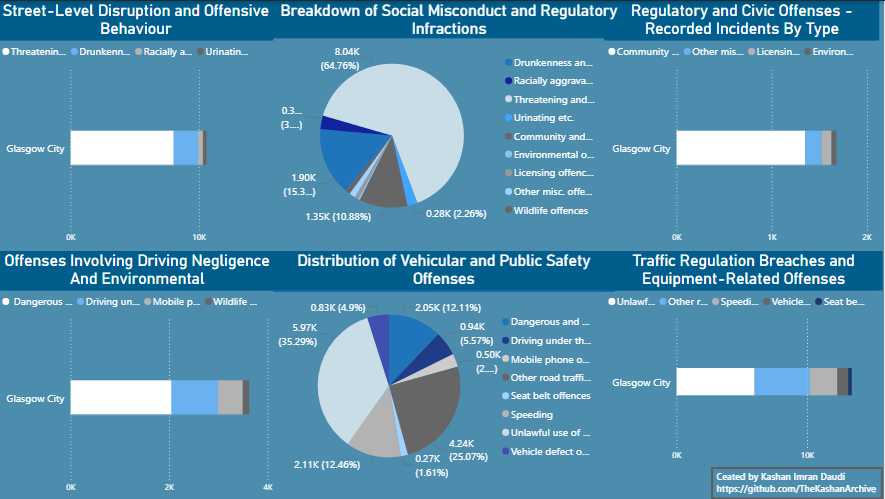

The dashboard page shown, as its layout file describes it:
{"tool":"powerbi","page":{"name":"Page 3","canvas":[1280,720],"ordinal":2},"visuals":[{"type":"barChart","title":"Street-Level Disruption and Offensive Behaviour","fields":{"Category":["Scotland Crime Report 2022-23, Cities Breakdown.Reference Area"],"Y":["Sum(Scotland Crime Report 2022-23, Cities Breakdown.Offences: Group 6: Threatening and abusive behaviour)","Sum(Scotland Crime Report 2022-23, Cities Breakdown.Offences: Group 6: Drunkenness and other disorderly conduct)","Sum(Scotland Crime Report 2022-23, Cities Breakdown.Offences: Group 6: Racially aggravated conduct)","Sum(Scotland Crime Report 2022-23, Cities Breakdown.Offences: Group 6: Urinating etc.)"]},"box":[0,0,398.1,359.5],"z":0},{"type":"barChart","title":"Regulatory and Civic Offenses - Recorded Incidents By Type ","fields":{"Category":["Scotland Crime Report 2022-23, Cities Breakdown.Reference Area"],"Y":["Sum(Scotland Crime Report 2022-23, Cities Breakdown.Offences: Group 7: Community and public order offences)","Sum(Scotland Crime Report 2022-23, Cities Breakdown.Offences: Group 7: Other misc. offences)","Sum(Scotland Crime Report 2022-23, Cities Breakdown.Offences: Group 7: Licensing offences)","Sum(Scotland Crime Report 2022-23, Cities Breakdown.Offences: Group 7: Environmental offences)"]},"box":[876.9,0,398.1,359.5],"z":1000},{"type":"barChart","title":"Offenses Involving Driving Negligence And Environmental","fields":{"Category":["Scotland Crime Report 2022-23, Cities Breakdown.Reference Area"],"Y":["Sum(Scotland Crime Report 2022-23, Cities Breakdown.Offences: Group 8: Dangerous and careless driving)","Sum(Scotland Crime Report 2022-23, Cities Breakdown.Offences: Group 8: Driving under the influence)","Sum(Scotland Crime Report 2022-23, Cities Breakdown.Offences: Group 8: Mobile phone offences)","Sum(Scotland Crime Report 2022-23, Cities Breakdown.Offences: Group 7: Wildlife offences)"]},"box":[0,361.4,401.9,358.6],"z":2000},{"type":"barChart","title":"Traffic Regulation Breaches and Equipment-Related Offenses","fields":{"Category":["Scotland Crime Report 2022-23, Cities Breakdown.Reference Area"],"Y":["Sum(Scotland Crime Report 2022-23, Cities Breakdown.Offences: Group 8: Unlawful use of vehicle)","Sum(Scotland Crime Report 2022-23, Cities Breakdown.Offences: Group 8: Other road traffic offences)","Sum(Scotland Crime Report 2022-23, Cities Breakdown.Offences: Group 8: Speeding)","Sum(Scotland Crime Report 2022-23, Cities Breakdown.Offences: Group 8: Vehicle defect offences)","Sum(Scotland Crime Report 2022-23, Cities Breakdown.Offences: Group 8: Seat belt offences)"]},"box":[876.9,361.2,403.1,312.4],"z":3000},{"type":"pieChart","fields":{"Y":["Sum(Scotland Crime Report 2022-23, Cities Breakdown.Offences: Group 6: Drunkenness and other disorderly conduct)","Sum(Scotland Crime Report 2022-23, Cities Breakdown.Offences: Group 6: Racially aggravated conduct)","Sum(Scotland Crime Report 2022-23, Cities Breakdown.Offences: Group 6: Threatening and abusive behaviour)","Sum(Scotland Crime Report 2022-23, Cities Breakdown.Offences: Group 6: Urinating etc.)","Sum(Scotland Crime Report 2022-23, Cities Breakdown.Offences: Group 7: Community and public order offences)","Sum(Scotland Crime Report 2022-23, Cities Breakdown.Offences: Group 7: Environmental offences)","Sum(Scotland Crime Report 2022-23, Cities Breakdown.Offences: Group 7: Licensing offences)","Sum(Scotland Crime Report 2022-23, Cities Breakdown.Offences: Group 7: Other misc. offences)","Sum(Scotland Crime Report 2022-23, Cities Breakdown.Offences: Group 7: Wildlife offences)"]},"box":[401.5,26.9,475.4,334.3],"z":4000},{"type":"pieChart","fields":{"Y":["Sum(Scotland Crime Report 2022-23, Cities Breakdown.Offences: Group 8: Dangerous and careless driving)","Sum(Scotland Crime Report 2022-23, Cities Breakdown.Offences: Group 8: Driving under the influence)","Sum(Scotland Crime Report 2022-23, Cities Breakdown.Offences: Group 8: Mobile phone offences)","Sum(Scotland Crime Report 2022-23, Cities Breakdown.Offences: Group 8: Other road traffic offences)","Sum(Scotland Crime Report 2022-23, Cities Breakdown.Offences: Group 8: Seat belt offences)","Sum(Scotland Crime Report 2022-23, Cities Breakdown.Offences: Group 8: Speeding)","Sum(Scotland Crime Report 2022-23, Cities Breakdown.Offences: Group 8: Unlawful use of vehicle)","Sum(Scotland Crime Report 2022-23, Cities Breakdown.Offences: Group 8: Vehicle defect offences)"]},"box":[398.1,391.4,475.4,329.2],"z":5000},{"type":"shape","title":"Breakdown of Social Misconduct and Regulatory Infractions","box":[398.1,0,509,53.8],"z":6000},{"type":"shape","title":"Distribution of Vehicular and Public Safety Offenses","box":[398.1,361.2,493.9,58.8],"z":7000},{"type":"textbox","box":[1033.1,673.6,246.9,47],"z":8000},{"type":"actionButton","box":[1030.8,673.7,248.7,46.3],"z":9000},{"type":"slicer","fields":{"Values":["Scotland Crime Report 2022-23, Cities Breakdown.Reference Area"]},"box":[0,707,13,13],"z":10000}]}

Visuals, with their boxes in screenshot pixels (x1, y1, x2, y2), scaled from the page's 1280x720 canvas onto the 885x499 screenshot:
"Street-Level Disruption and Offensive Behaviour" barChart: (0,0,275,249)
"Regulatory and Civic Offenses - Recorded Incidents By Type " barChart: (606,0,882,249)
"Offenses Involving Driving Negligence And Environmental" barChart: (0,250,278,498)
"Traffic Regulation Breaches and Equipment-Related Offenses" barChart: (606,250,884,467)
pieChart - Sum(Scotland Crime Report 2022-23, Cities Breakdown.Offences: Group 6: Drunkenness and other disorderly conduct) x Sum(Scotland Crime Report 2022-23, Cities Breakdown.Offences: Group 6: Racially aggravated conduct): (278,19,606,250)
pieChart - Sum(Scotland Crime Report 2022-23, Cities Breakdown.Offences: Group 8: Dangerous and careless driving) x Sum(Scotland Crime Report 2022-23, Cities Breakdown.Offences: Group 8: Driving under the influence): (275,271,604,498)
"Breakdown of Social Misconduct and Regulatory Infractions" shape: (275,0,627,37)
"Distribution of Vehicular and Public Safety Offenses" shape: (275,250,617,291)
textbox: (714,467,884,498)
actionButton: (713,467,884,498)
slicer - Scotland Crime Report 2022-23, Cities Breakdown.Reference Area: (0,490,9,498)
